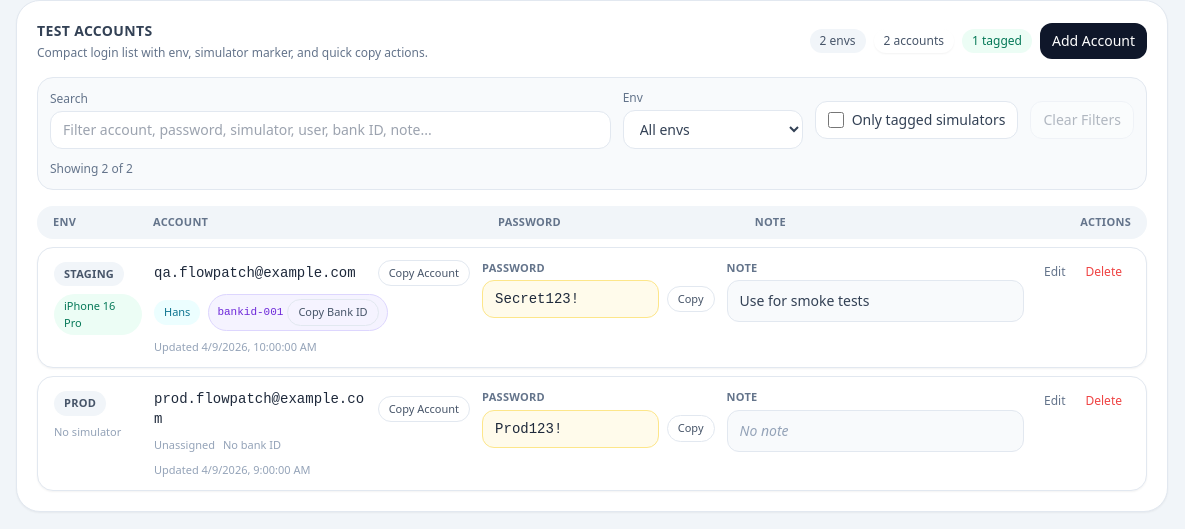
Scenario: TestAccountPanel › filters by env, query, and tagged toggle
expect the text "qa.flowpatch@example.com" is shown: met, box left=154, top=263, right=370, bottom=283
expect the text "prod.flowpatch@example.com" is shown: met, box left=154, top=389, right=370, bottom=429
Select "prod" in the dropdown labelled "Env": [713, 130] box left=623, top=110, right=803, bottom=149
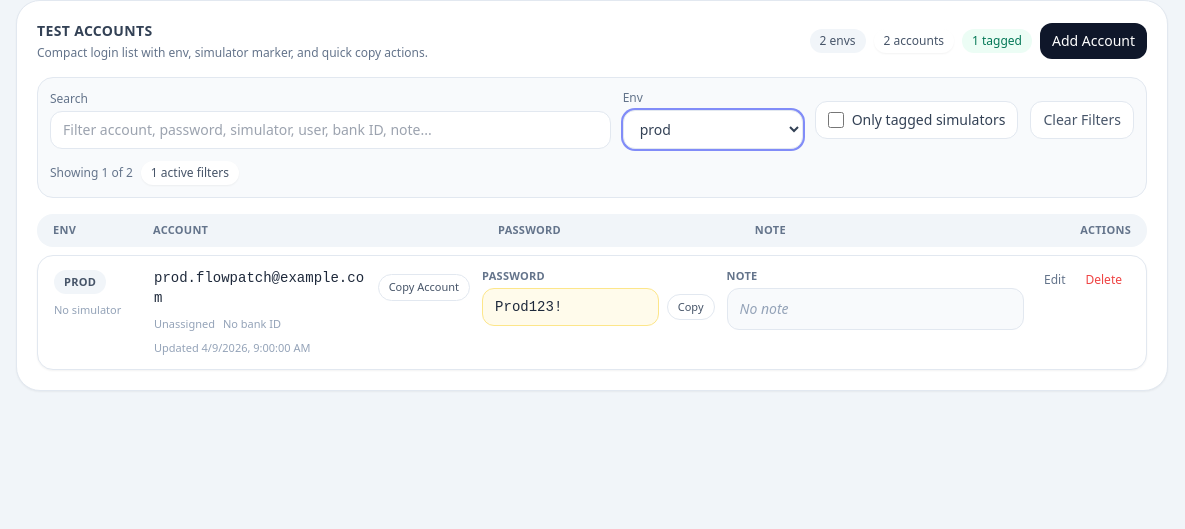
expect the text "prod.flowpatch@example.com" is shown: met, box left=154, top=268, right=370, bottom=308
expect the text "iPhone 16 Pro" is gone: met
In the field labelled "Search": [330, 130] box left=50, top=110, right=611, bottom=148, type "qa.flowpatch"
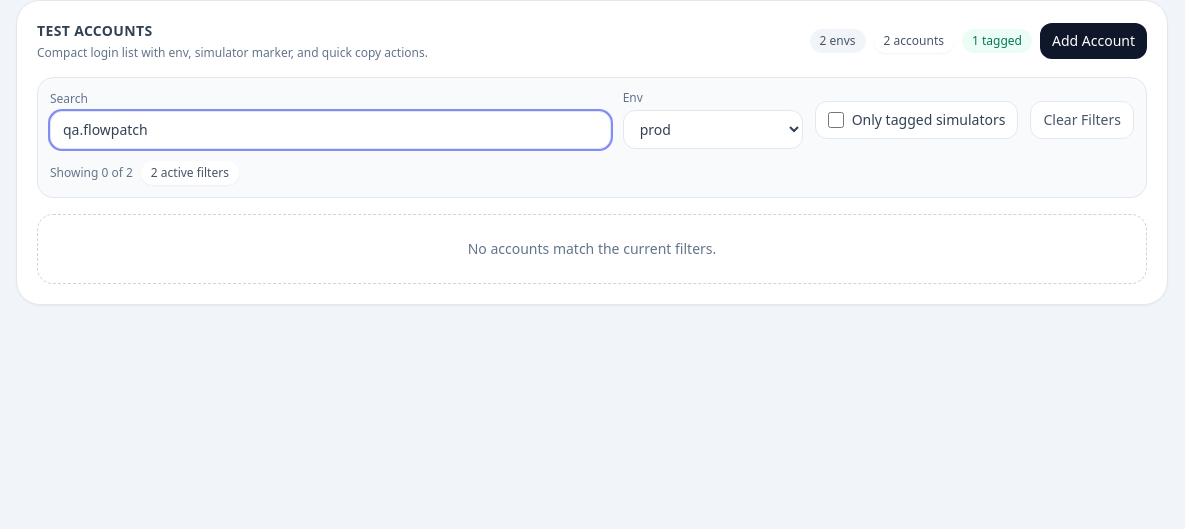
expect the text "No accounts match the current filters." is shown: met, box left=37, top=214, right=1147, bottom=284
Click the button "Clear Filters": [1082, 120] box left=1030, top=100, right=1134, bottom=138
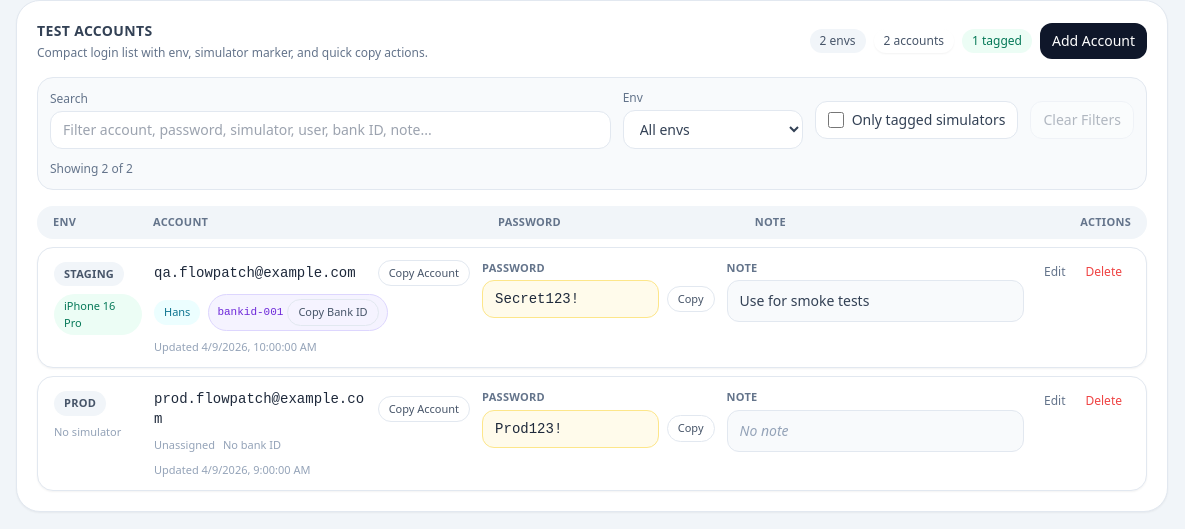
Click the checkbox labelled "Only tagged simulators": [836, 120] box left=828, top=112, right=844, bottom=128
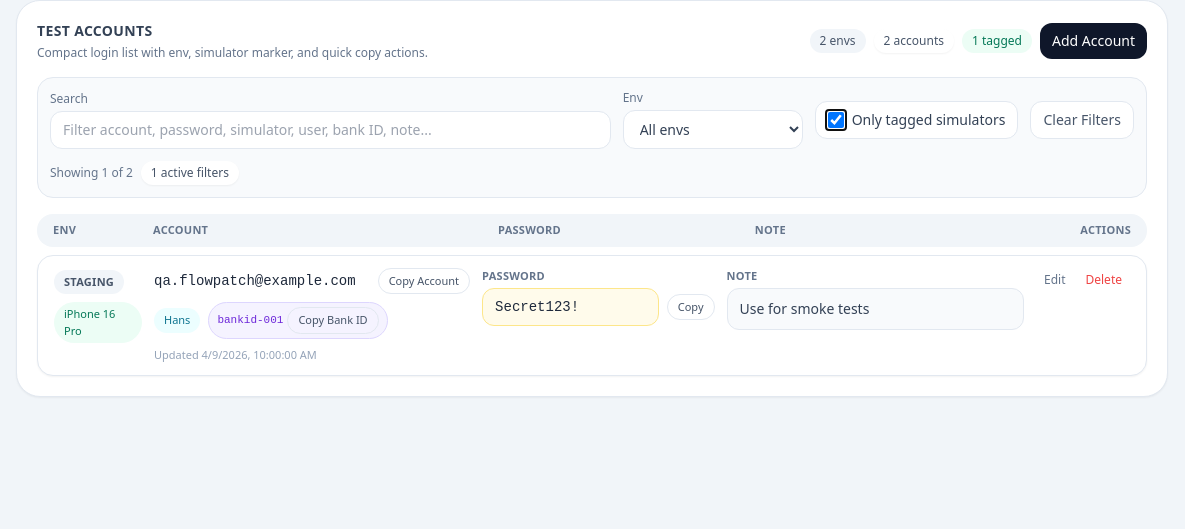
expect the text "qa.flowpatch@example.com" is shown: met, box left=154, top=271, right=370, bottom=291
expect the text "prod.flowpatch@example.com" is gone: met
